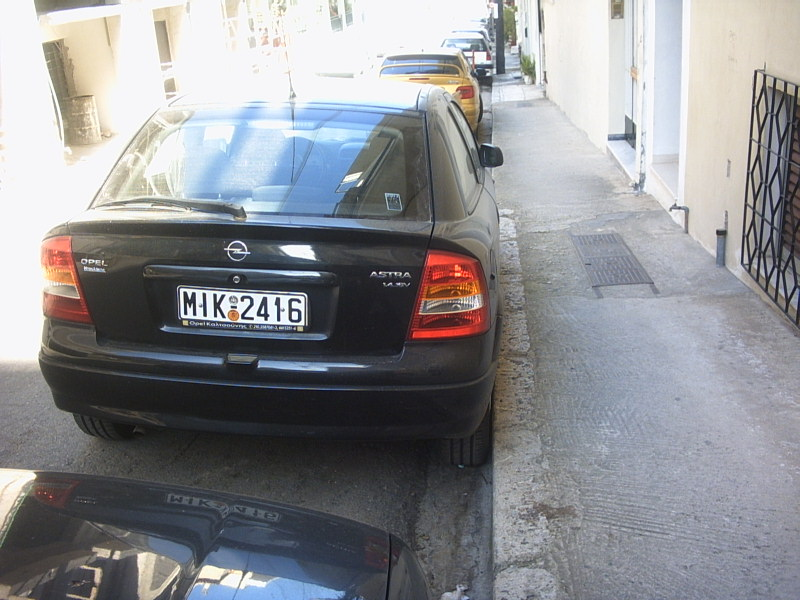licenseplate: (175, 284, 308, 334)
